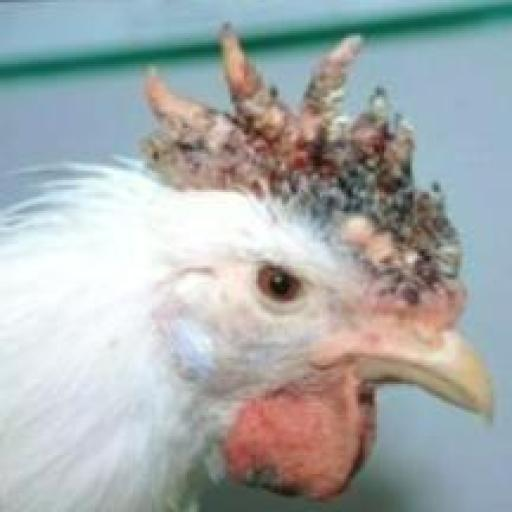disease: (131, 37, 473, 348)
